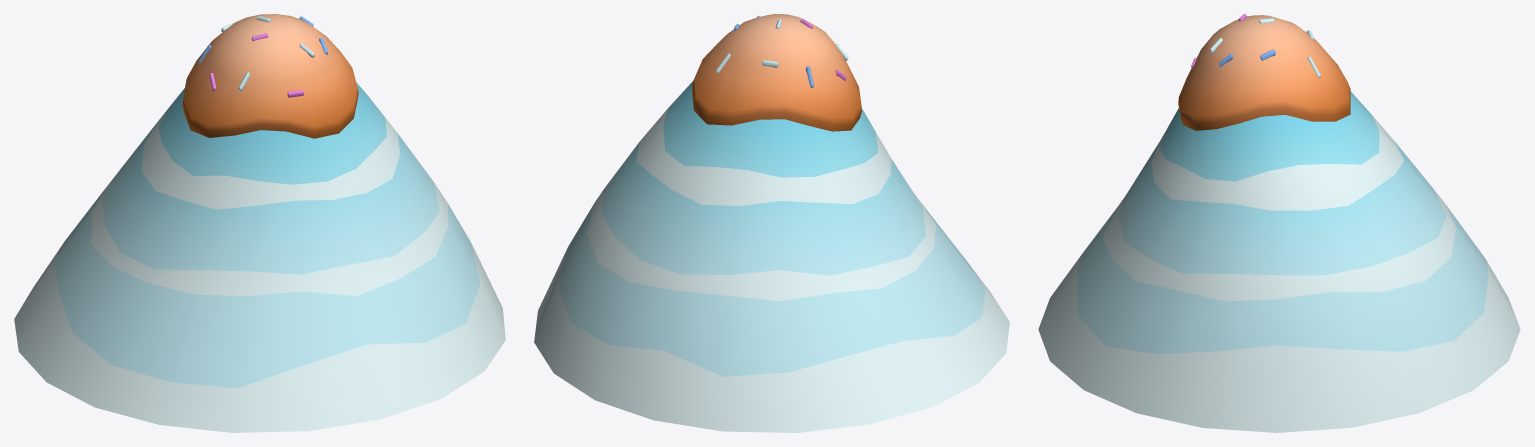
Rendered from Mountain_04.glb.
The picture shows the model from 3 angles, left to right: view 1: azimuth 30°, elevation 25°; view 2: azimuth 150°, elevation 25°; view 3: azimuth 270°, elevation 25°; orthographic projection. The views are drawn at different scales.
Visible parts, largest first — view 1: Mountain_04; view 2: Mountain_04; view 3: Mountain_04.
Boxes of the visible parts, x1,y1,x2,y2 form: Mountain_04: (14,14,505,432); Mountain_04: (534,14,1009,432); Mountain_04: (1038,14,1520,432).
Size of the model in its own units: 41.49 by 29.3 by 41.21.
Materials: 1 (1 with a texture image).
